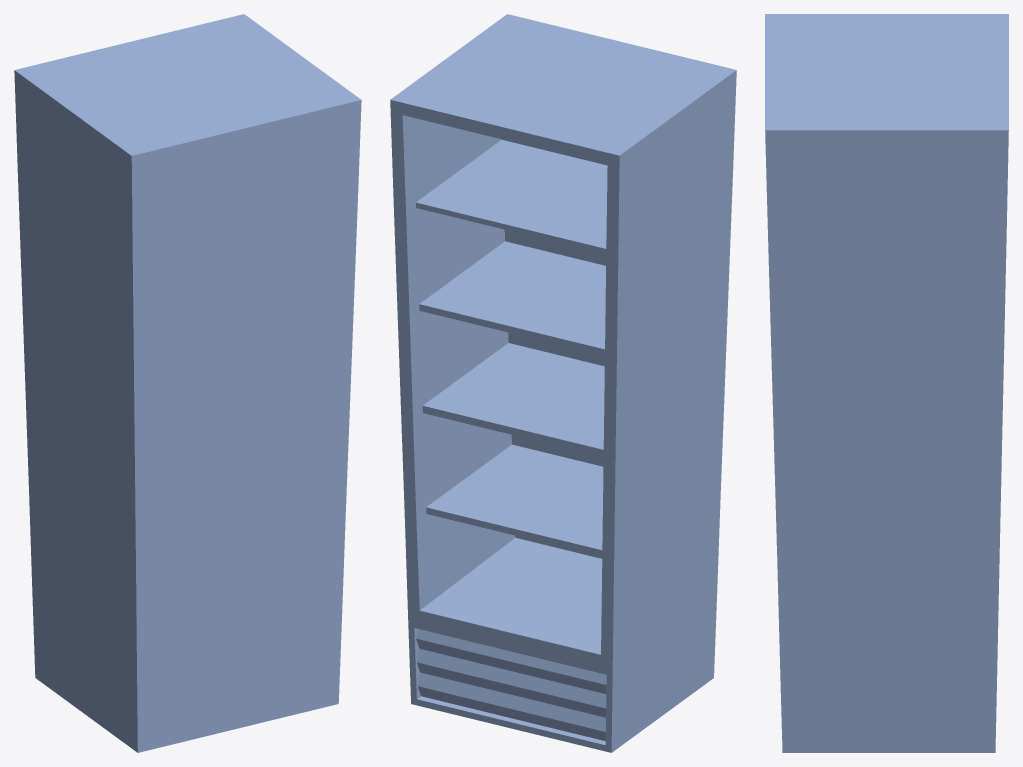
The model's file is Estación_Heladera_NoTextures.fbx.
The picture shows the model from 3 angles, left to right: view 1: azimuth 30°, elevation 25°; view 2: azimuth 150°, elevation 25°; view 3: azimuth 270°, elevation 25°; orthographic projection. The views are drawn at different scales.
Parts seen in each view (by area): view 1: m_Heladera; view 2: m_Heladera; view 3: m_Heladera.
Boxes of the visible parts, left/top/right/bottom form: m_Heladera: left=14, top=14, right=361, bottom=752; m_Heladera: left=390, top=14, right=736, bottom=752; m_Heladera: left=765, top=14, right=1008, bottom=752.
Bounding box in the file's own units: 219 × 552 × 193.
